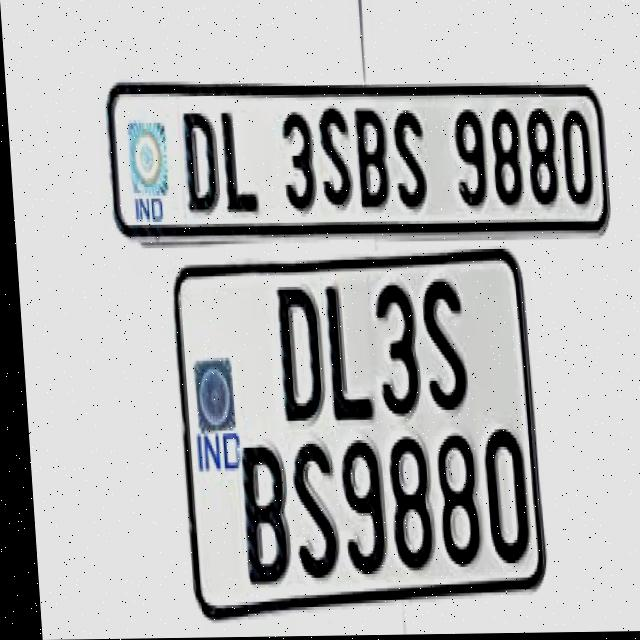plate: (164, 246, 541, 625), (99, 73, 611, 242)
